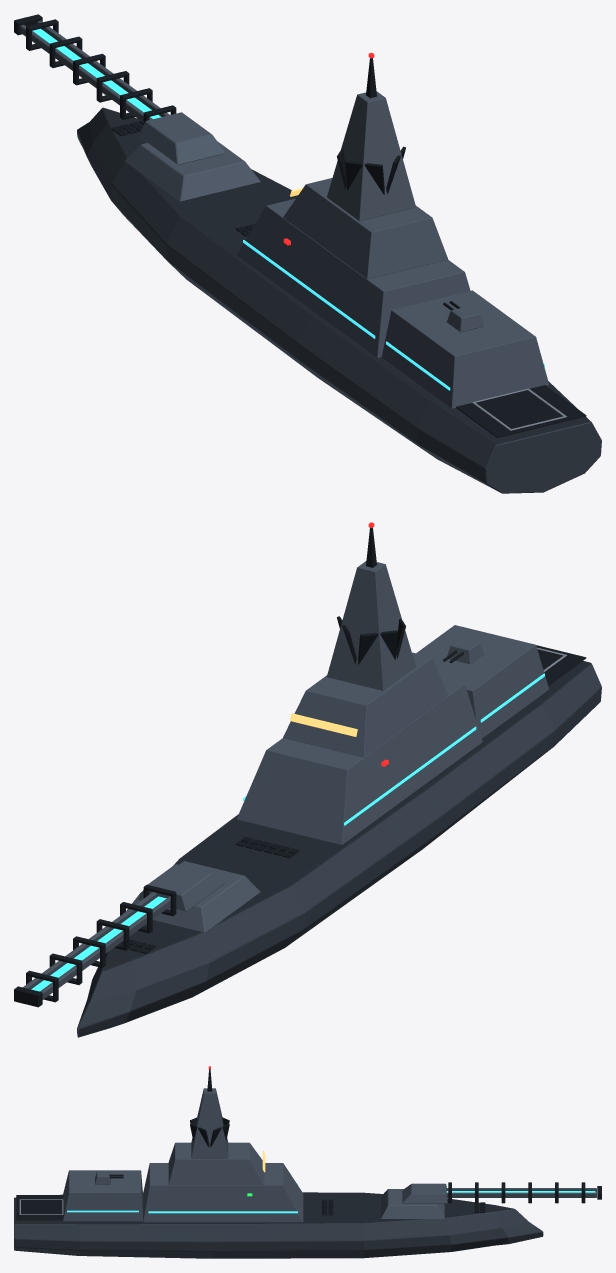
Rendered from battlecruiser.glb.
The picture shows the model from 3 angles, top to bottom: view 1: azimuth 30°, elevation 25°; view 2: azimuth 150°, elevation 25°; view 3: azimuth 270°, elevation 25°; orthographic projection. The views are drawn at different scales.
Visible parts, largest first — view 1: Superstructure, Hull, Railgun, FlakGun; view 2: Superstructure, Hull, Railgun, FlakGun; view 3: Hull, Superstructure, Railgun, FlakGun.
Part boxes in pixels (x1,y1,x2,y2): Superstructure: (111, 52, 586, 437); Hull: (77, 107, 601, 493); Railgun: (14, 14, 260, 201); FlakGun: (443, 301, 483, 332); Superstructure: (120, 522, 586, 953); Hull: (77, 661, 601, 1037); Railgun: (14, 861, 260, 1007); FlakGun: (443, 638, 483, 664); Hull: (14, 1192, 543, 1258); Superstructure: (16, 1066, 485, 1222); Railgun: (381, 1182, 601, 1218); FlakGun: (95, 1171, 123, 1184).
Size of the model in its own units: 7.13 by 15.44 by 44.05.
